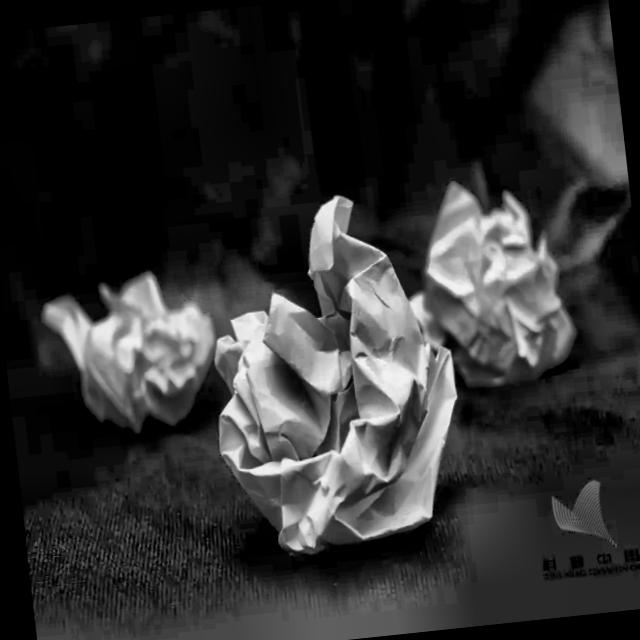Paper: (188, 177, 485, 612), (378, 160, 590, 413), (31, 240, 224, 429)
